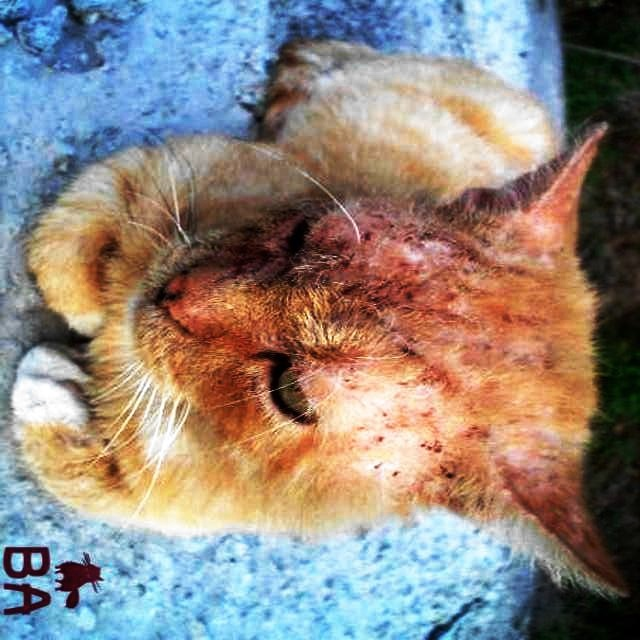ringworm: (322, 225, 400, 305), (222, 241, 270, 283)
